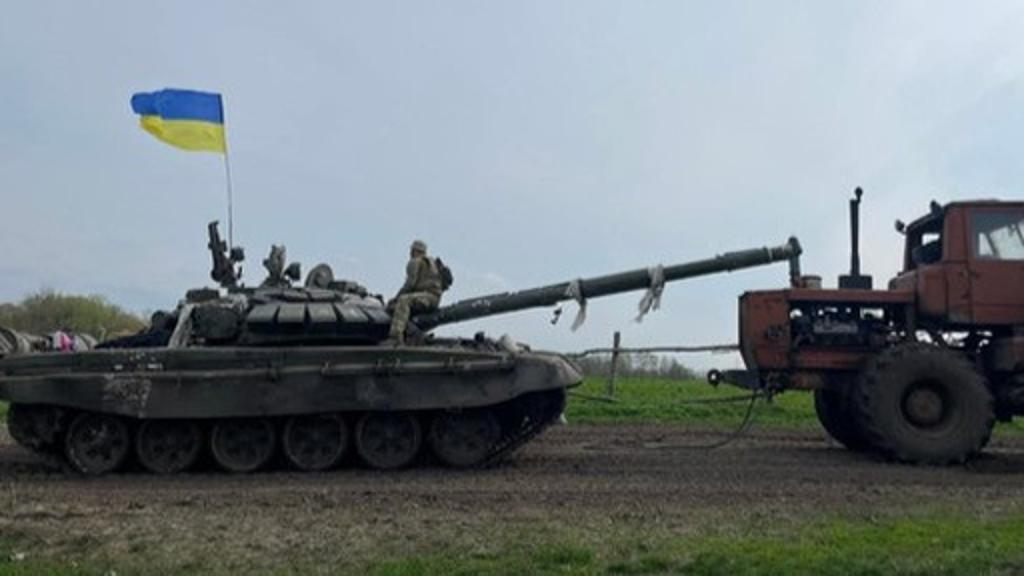TANK: (0, 214, 810, 504)
